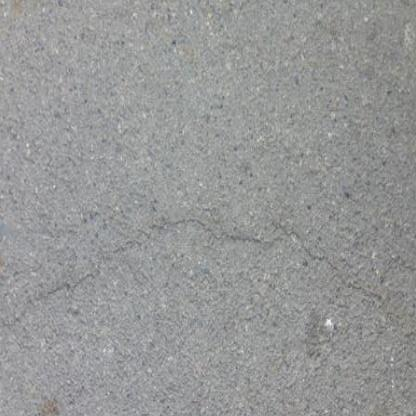Cracks: (0, 216, 416, 332)
